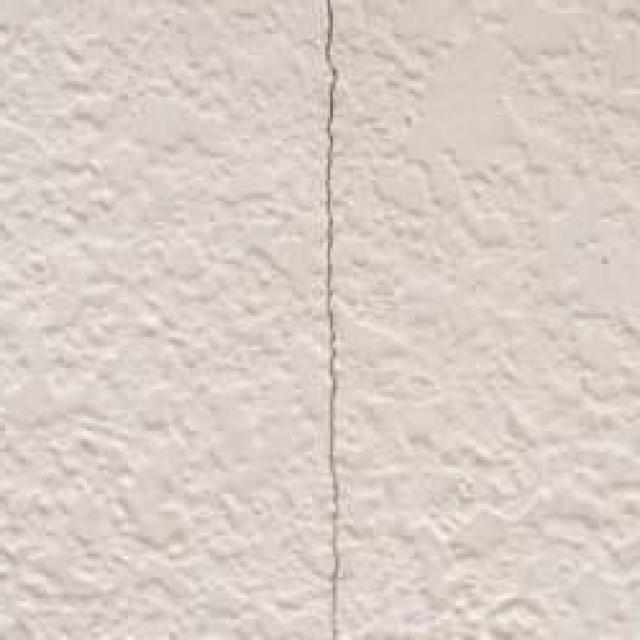leak: (323, 1, 348, 640)
